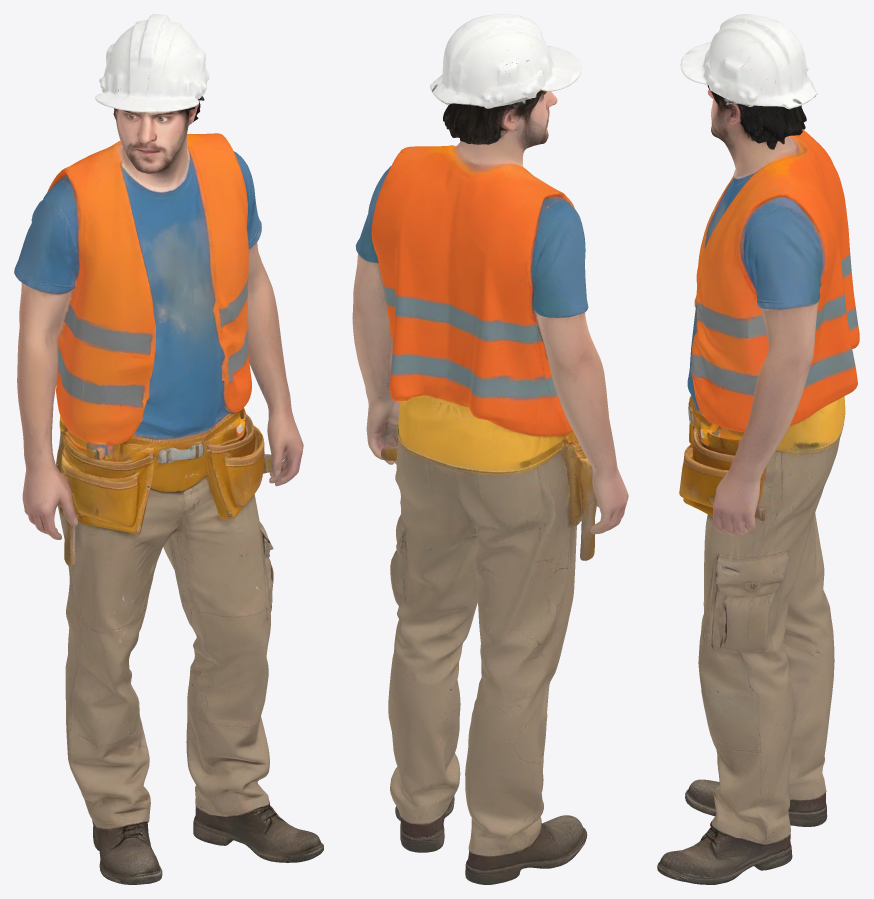
The model's file is worker-orange-vest-belt.glb.
3 renders of one model, left to right at view 1: azimuth 30°, elevation 25°; view 2: azimuth 150°, elevation 25°; view 3: azimuth 270°, elevation 25°, orthographic. The views are drawn at different scales.
Parts seen in each view (by area): view 1: Object_5, Object_6, Object_7; view 2: Object_6, Object_5, Object_7; view 3: Object_6, Object_5, Object_7.
Part boxes in pixels (box(x1,y1,x2,y2)): Object_5: box(22, 14, 323, 884); Object_6: box(14, 14, 285, 870); Object_7: box(19, 16, 291, 839); Object_6: box(352, 15, 626, 884); Object_5: box(363, 14, 628, 865); Object_7: box(359, 14, 621, 843); Object_6: box(716, 16, 859, 876); Object_5: box(657, 14, 809, 884); Object_7: box(704, 16, 791, 845).
Bounding box in the file's own units: 0.6186 × 1.9 × 0.4298.
Materials: 1 (1 with a texture image).
